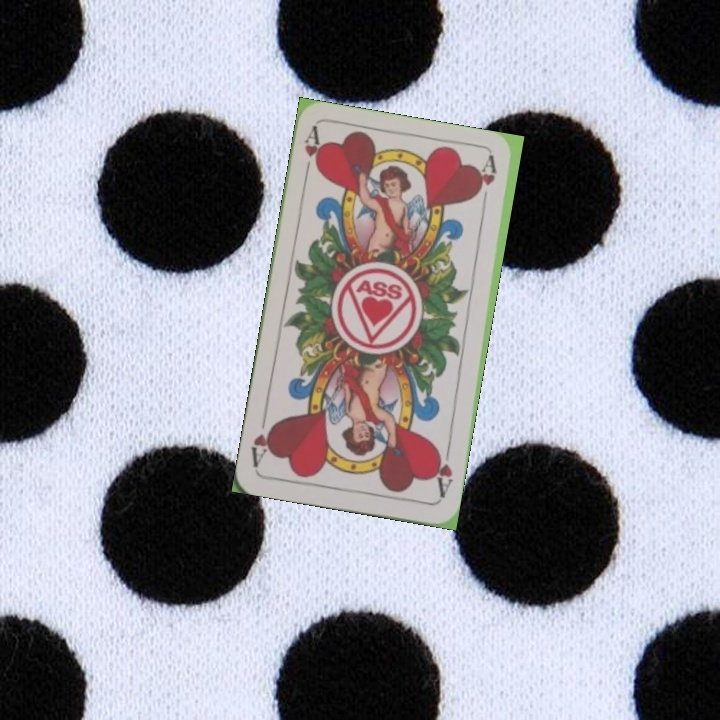HA: (299, 124, 326, 183), (429, 442, 455, 501)
